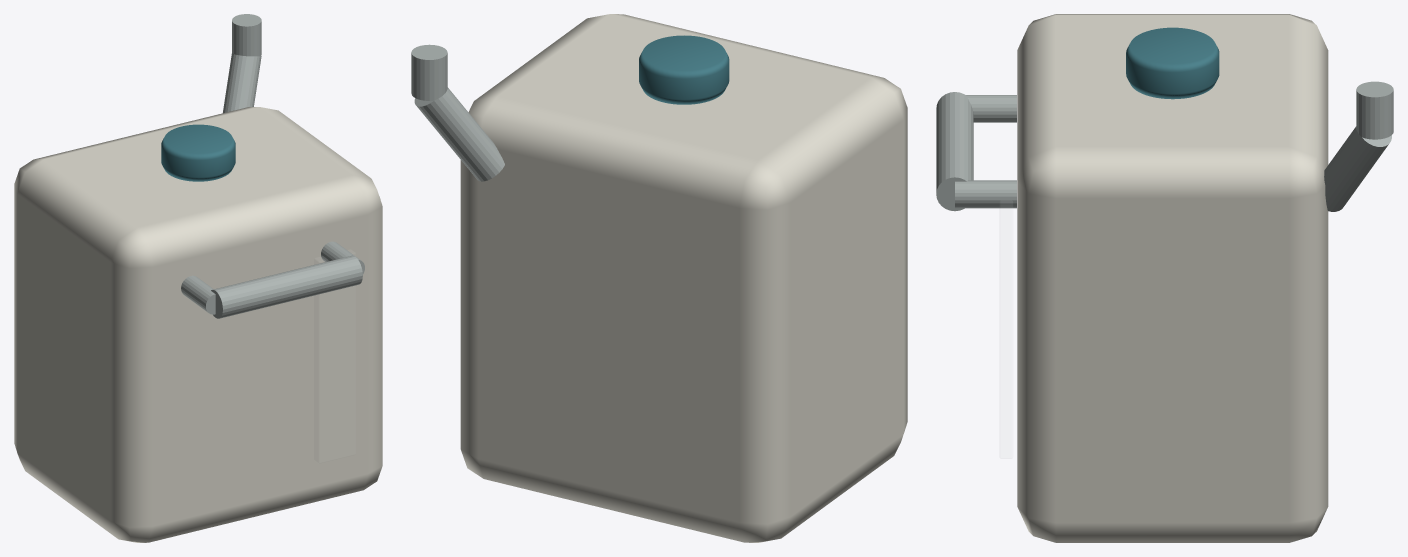
File: optician-and-optical-lens-workshop-optician-and-optica-65284ec9__31698.glb
3 renders of one model, left to right at view 1: azimuth 30°, elevation 25°; view 2: azimuth 150°, elevation 25°; view 3: azimuth 270°, elevation 25°, orthographic. The views are drawn at different scales.
Parts seen in each view (by area): view 1: optician-and-optical-lens-workshop-coolant-reservoir; view 2: optician-and-optical-lens-workshop-coolant-reservoir; view 3: optician-and-optical-lens-workshop-coolant-reservoir.
Boxes of the visible parts, x1,y1,x2,y2 form: optician-and-optical-lens-workshop-coolant-reservoir: (14, 14, 382, 542); optician-and-optical-lens-workshop-coolant-reservoir: (411, 14, 907, 542); optician-and-optical-lens-workshop-coolant-reservoir: (936, 14, 1393, 542).
Size of the model in its own units: 0.257 by 0.33 by 0.294.
